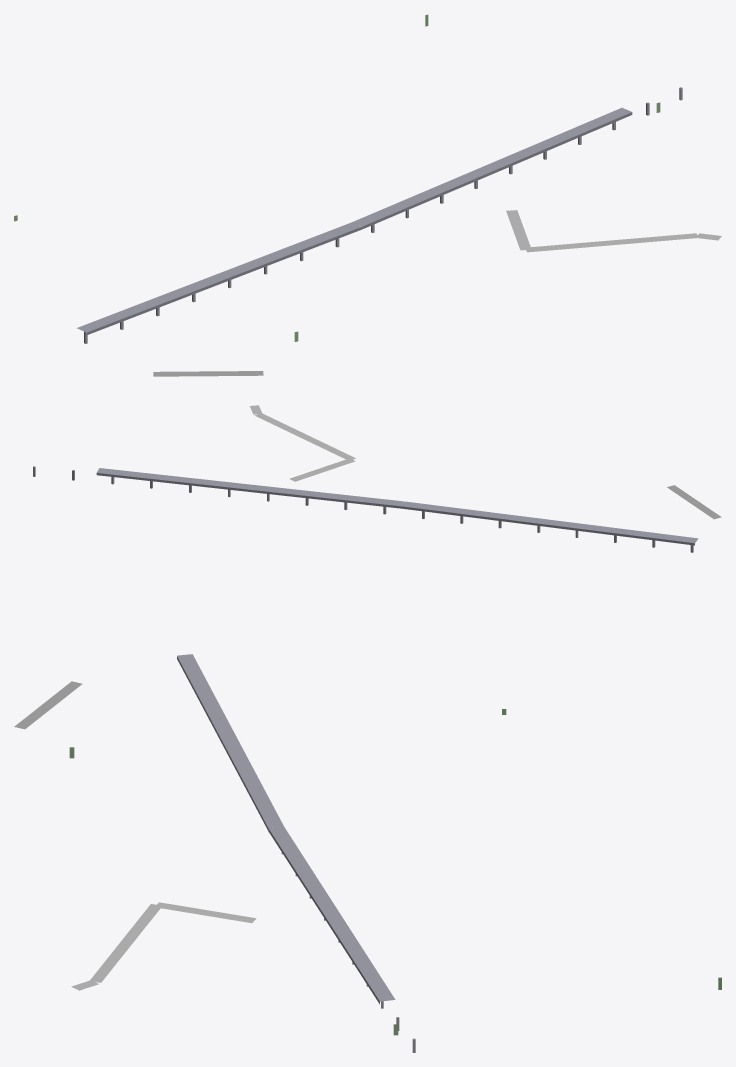
3 views of the same model, one above another, from view 1: azimuth 30°, elevation 25°; view 2: azimuth 150°, elevation 25°; view 3: azimuth 270°, elevation 25° (orthographic). The views are drawn at different scales.
Size of the model in its own units: 499 by 11.53 by 393.
